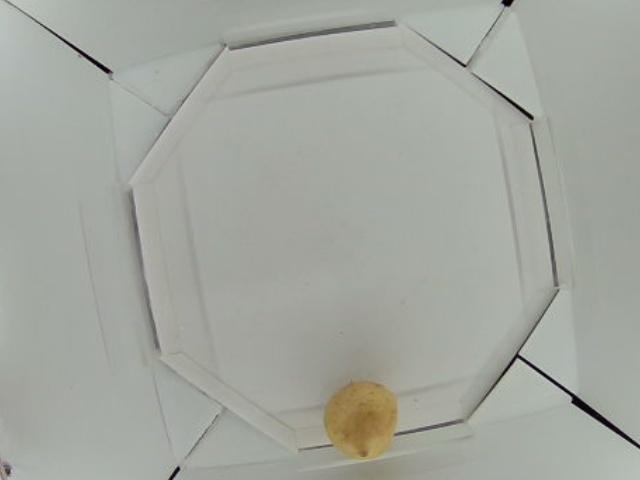Potato: (325, 381, 398, 461)
